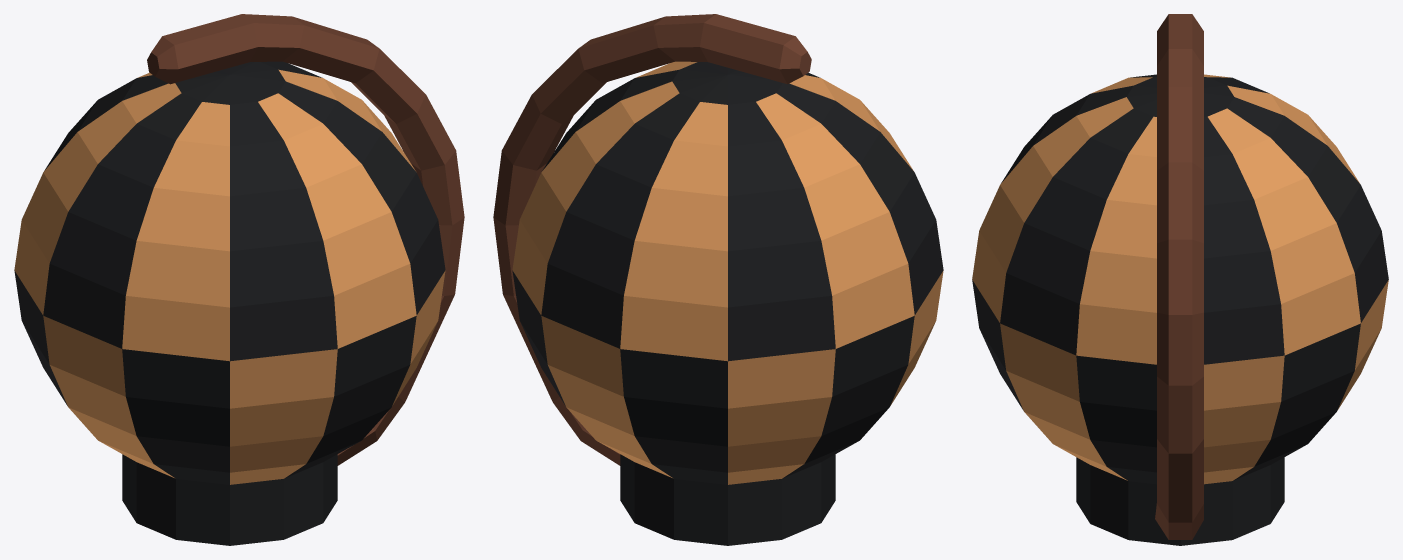
The model's file is Shell_6inch_DummyShell.fbx.
3 renders of one model, left to right at view 1: azimuth 30°, elevation 25°; view 2: azimuth 150°, elevation 25°; view 3: azimuth 270°, elevation 25°, orthographic. The views are drawn at different scales.
Parts seen in each view (by area): view 1: Shell_6inch_DummyShell; view 2: Shell_6inch_DummyShell; view 3: Shell_6inch_DummyShell.
Part boxes in pixels (left/top/right/bottom): Shell_6inch_DummyShell: left=14, top=14, right=464, bottom=545; Shell_6inch_DummyShell: left=493, top=14, right=943, bottom=545; Shell_6inch_DummyShell: left=972, top=14, right=1388, bottom=545.
Bounding box in the file's own units: 16.95 × 19.39 × 15.24.
